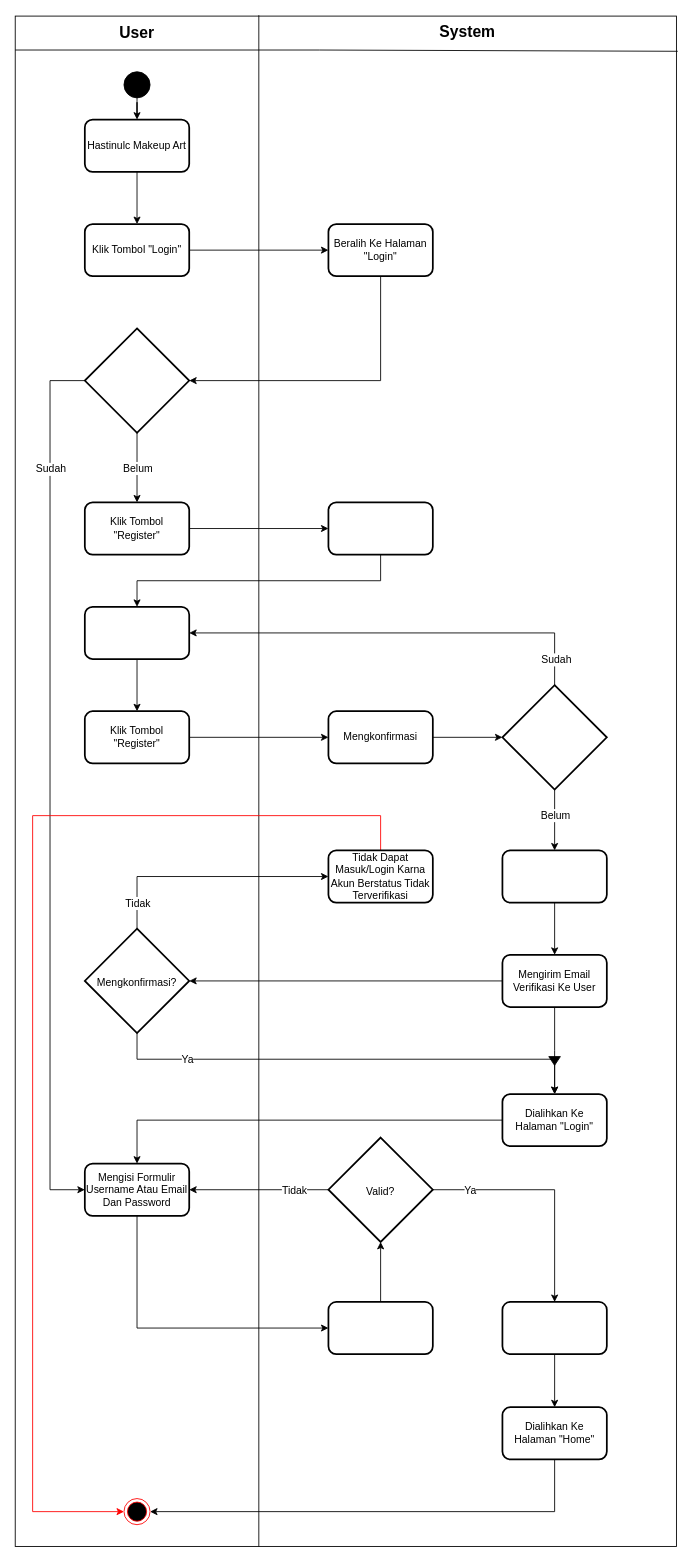
Some shapes in this 694 by 1563 pixel diagram are drawn without their labels. Here are the shapes that lost their labels. From the top down, the centre of each, then its label:
pixel 137 380: Sudah Mempunyai Akun?
pixel 380 528: Beralih Ke Halaman "Register"
pixel 137 632: Mengisi Formulir Pendaftaran
pixel 554 737: Apakah Username Atau Email Sudah Dipakai?
pixel 554 876: Menyimpan Data Di Database
pixel 380 1328: Memvalidasi
pixel 554 1328: Menyimpan Data Di Session
